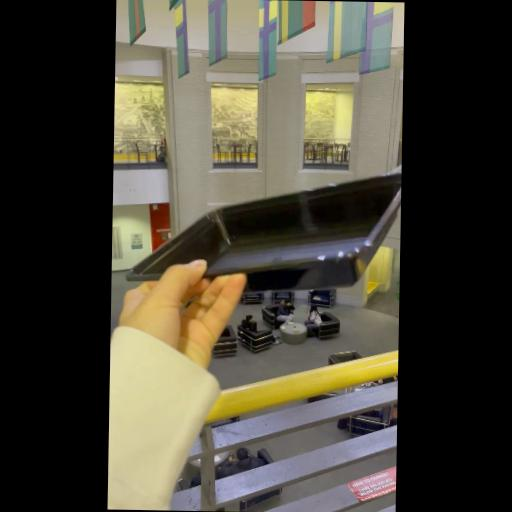rigid_plastic_container: (124, 154, 402, 310)
